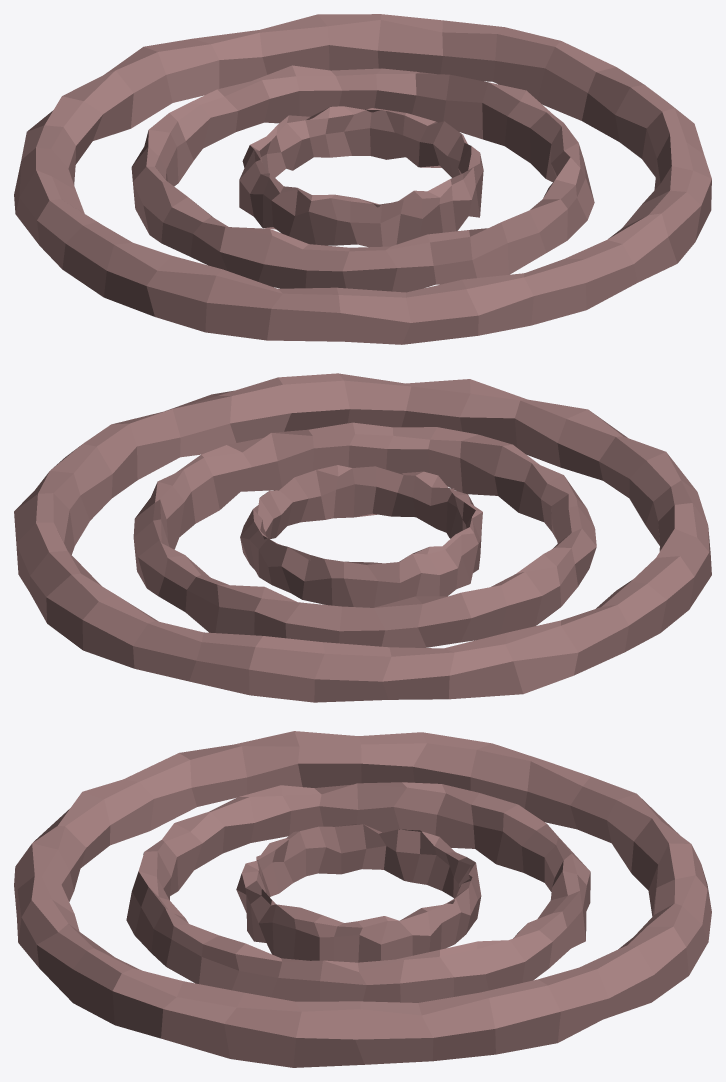
Rendered from switchO.fbx.
3 renders of one model, top to bottom at view 1: azimuth 30°, elevation 25°; view 2: azimuth 150°, elevation 25°; view 3: azimuth 270°, elevation 25°, orthographic.
Parts seen in each view (by area): view 1: SwotchO; view 2: SwotchO; view 3: SwotchO.
Part boxes in pixels (box(x1,y1,x2,y2)): SwotchO: box(14, 14, 711, 344); SwotchO: box(14, 373, 711, 702); SwotchO: box(14, 731, 711, 1067).
Bounding box in the file's own units: 0.7996 × 0.7989 × 0.068.
